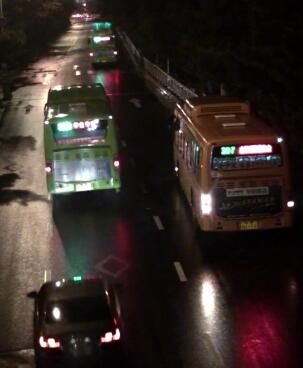bus: (165, 94, 292, 235), (42, 84, 122, 200), (83, 23, 120, 66)
car: (26, 274, 125, 366)
